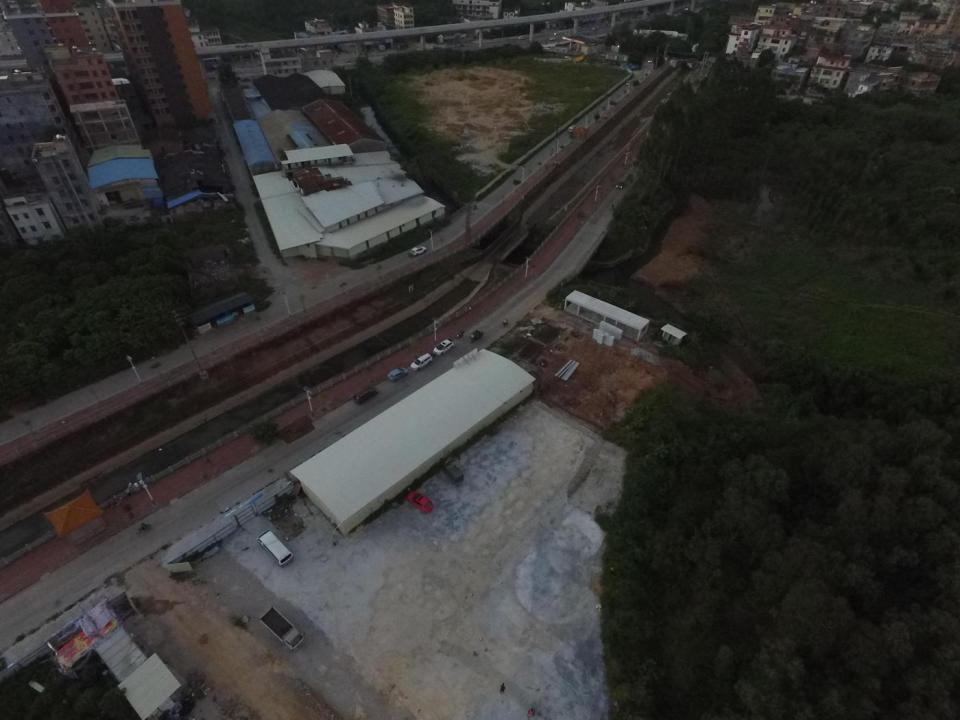car: (405, 490, 434, 514), (432, 337, 455, 356), (387, 367, 408, 382), (408, 245, 426, 257), (614, 180, 626, 189), (625, 80, 632, 86), (549, 36, 557, 40), (591, 26, 599, 30), (648, 58, 653, 63)
truck: (259, 604, 305, 652)
van: (258, 530, 293, 566), (352, 386, 378, 404), (442, 464, 464, 485), (410, 353, 432, 370), (568, 125, 576, 133), (518, 35, 526, 40)
